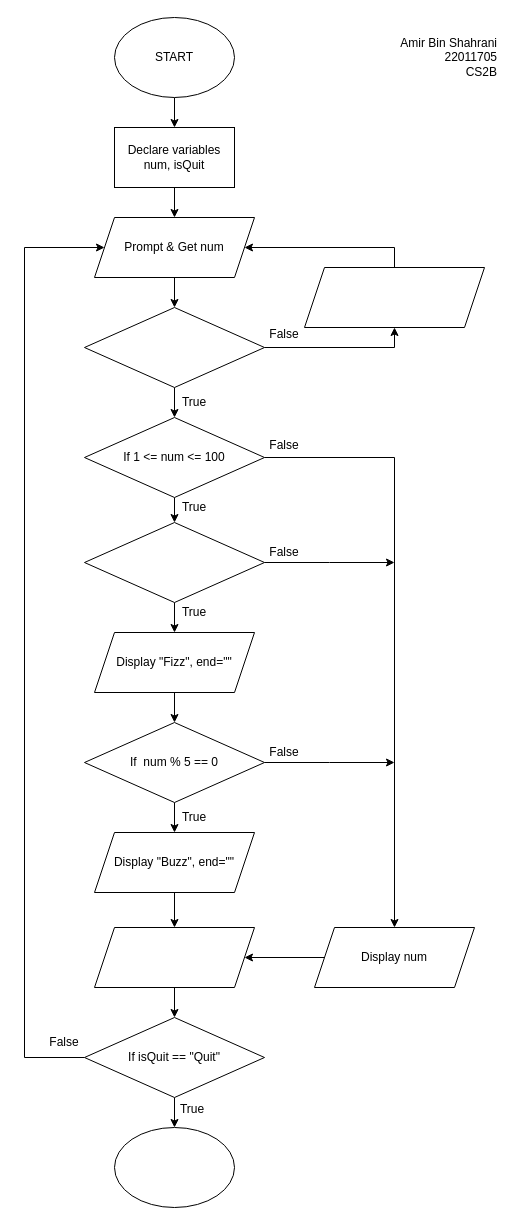
Image size: 517x1225. Some labels were removed from this diagram. The shapes that lost their labels are listed below. From the top down, each one's box as (x1, y1, x2, y2) in pixels, then its label:
(304, 266, 484, 328): Display "Error! Not an interger. Please try again."
(84, 306, 264, 388): If type(num) == int
(84, 522, 264, 602): If num % 3 == 0
(94, 926, 254, 988): Prompt & Get isQuit
(114, 1126, 234, 1208): END
